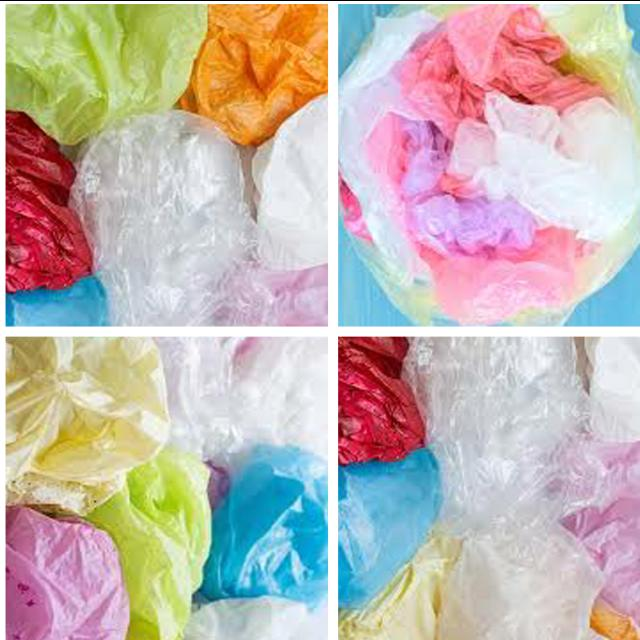plastik: (339, 3, 640, 324), (340, 336, 640, 640), (71, 110, 257, 324), (6, 336, 170, 514), (6, 3, 208, 143), (86, 448, 212, 640), (178, 3, 328, 145), (158, 336, 328, 461), (200, 448, 328, 602), (338, 447, 441, 608), (5, 507, 129, 640), (6, 110, 92, 291), (561, 440, 640, 626), (251, 93, 328, 263), (338, 336, 425, 464), (183, 597, 327, 640), (7, 275, 109, 325)
